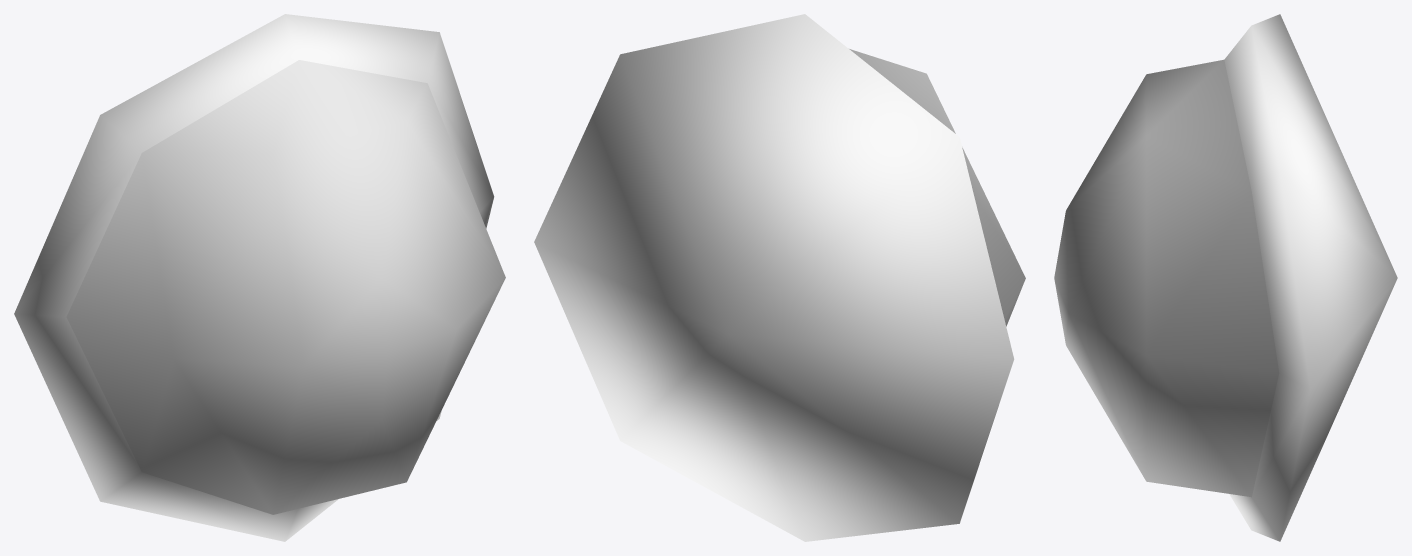
The model's file is shell.fbx.
3 renders of one model, left to right at view 1: azimuth 30°, elevation 25°; view 2: azimuth 150°, elevation 25°; view 3: azimuth 270°, elevation 25°, orthographic. The views are drawn at different scales.
Parts seen in each view (by area): view 1: hammershell; view 2: hammershell; view 3: hammershell.
Part boxes in pixels (x1=…): hammershell: x1=14, y1=14, x2=505, y2=541; hammershell: x1=534, y1=14, x2=1025, y2=541; hammershell: x1=1054, y1=14, x2=1397, y2=541.
Size of the model in its own units: 1080 by 1135 by 700.
2 materials, 1 textured.
